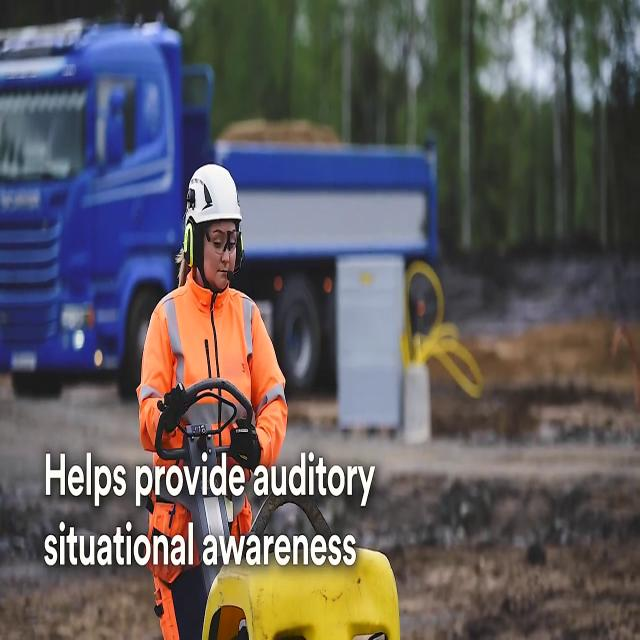earmuff: (181, 217, 199, 274), (234, 229, 247, 266)
glasses: (200, 227, 242, 253)
helmet: (186, 161, 246, 221)
